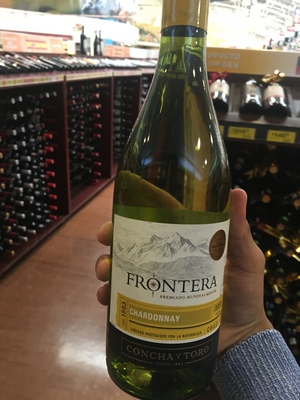frontera chardonnay: (112, 5, 240, 400)
